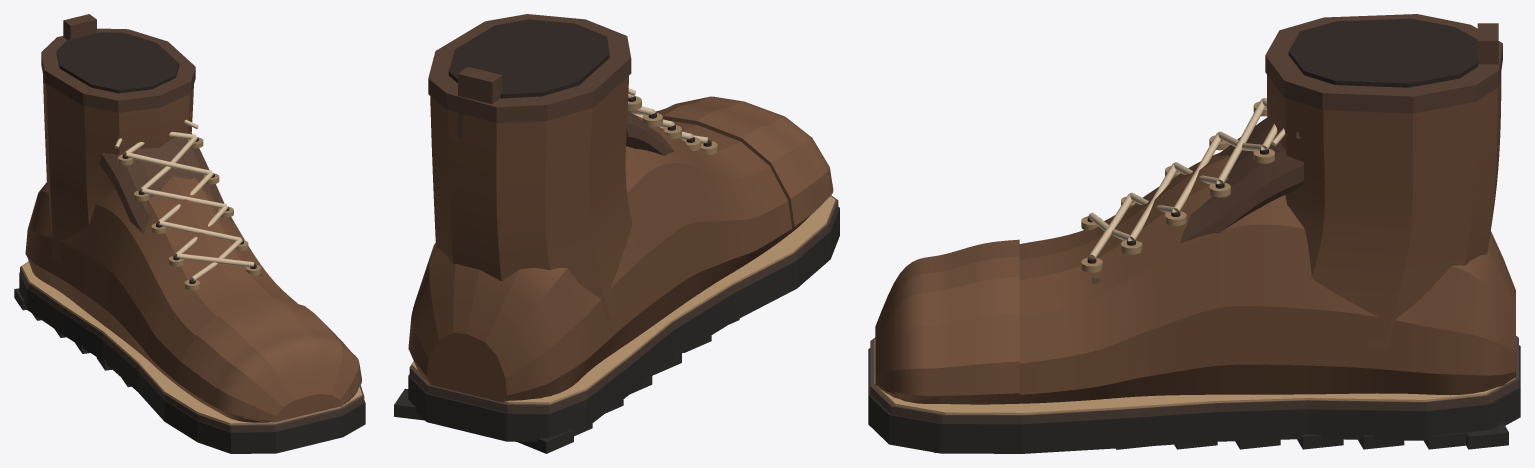
File: daniel_work_boot_right.glb
3 views of the same model, side by side, from view 1: azimuth 30°, elevation 25°; view 2: azimuth 150°, elevation 25°; view 3: azimuth 270°, elevation 25° (orthographic). The views are drawn at different scales.
Visible parts, largest first — view 1: Leather toe and vamp.001, Burnished toe cap.001, Shaped leather ankle.001, Continuous rubber outsole.001, Dark collar lining.001, Padded collar edge.001, Rising leather tongue.001, Ochre welt seam.001, Leather welt.001, Heel pull tab.001; view 2: Leather toe and vamp.001, Shaped leather ankle.001, Continuous rubber outsole.001, Dark collar lining.001, Burnished toe cap.001, Padded collar edge.001, Ochre welt seam.001, Leather welt.001, Heel pull tab.001, Rising leather tongue.001, Outsole tread lug.038, Outsole tread lug.039; view 3: Leather toe and vamp.001, Shaped leather ankle.001, Burnished toe cap.001, Continuous rubber outsole.001, Dark collar lining.001, Padded collar edge.001, Leather welt.001, Ochre welt seam.001, Rising leather tongue.001, Heel pull tab.001, Outsole tread lug.039.
Part boxes in pixels (left/top/right/bottom): Leather toe and vamp.001: left=25, top=176, right=358, bottom=422; Burnished toe cap.001: left=178, top=299, right=361, bottom=422; Shaped leather ankle.001: left=43, top=75, right=193, bottom=265; Continuous rubber outsole.001: left=19, top=272, right=365, bottom=453; Dark collar lining.001: left=56, top=32, right=179, bottom=93; Padded collar edge.001: left=41, top=28, right=195, bottom=112; Rising leather tongue.001: left=100, top=131, right=263, bottom=276; Ochre welt seam.001: left=22, top=262, right=362, bottom=424; Leather welt.001: left=20, top=261, right=364, bottom=431; Heel pull tab.001: left=63, top=14, right=96, bottom=39; Leather toe and vamp.001: left=408, top=114, right=822, bottom=402; Shaped leather ankle.001: left=430, top=76, right=632, bottom=320; Continuous rubber outsole.001: left=408, top=207, right=839, bottom=441; Dark collar lining.001: left=448, top=19, right=609, bottom=98; Burnished toe cap.001: left=655, top=96, right=833, bottom=238; Padded collar edge.001: left=428, top=14, right=631, bottom=123; Ochre welt seam.001: left=412, top=196, right=835, bottom=404; Leather welt.001: left=409, top=195, right=838, bottom=413; Heel pull tab.001: left=458, top=67, right=502, bottom=138; Rising leather tongue.001: left=626, top=110, right=674, bottom=155; Outsole tread lug.038: left=517, top=429, right=573, bottom=453; Outsole tread lug.039: left=394, top=388, right=424, bottom=420; Leather toe and vamp.001: left=879, top=152, right=1515, bottom=403; Shaped leather ankle.001: left=1267, top=72, right=1501, bottom=349; Burnished toe cap.001: left=875, top=239, right=1019, bottom=404; Continuous rubber outsole.001: left=868, top=345, right=1520, bottom=453; Dark collar lining.001: left=1288, top=18, right=1478, bottom=87; Padded collar edge.001: left=1265, top=14, right=1502, bottom=113; Leather welt.001: left=870, top=336, right=1518, bottom=423; Ochre welt seam.001: left=874, top=339, right=1515, bottom=414; Rising leather tongue.001: left=1092, top=117, right=1303, bottom=284; Heel pull tab.001: left=1477, top=23, right=1498, bottom=108; Outsole tread lug.039: left=1466, top=423, right=1508, bottom=449.
Bounding box in the file's own units: 0.1113 × 0.177 × 0.28.
